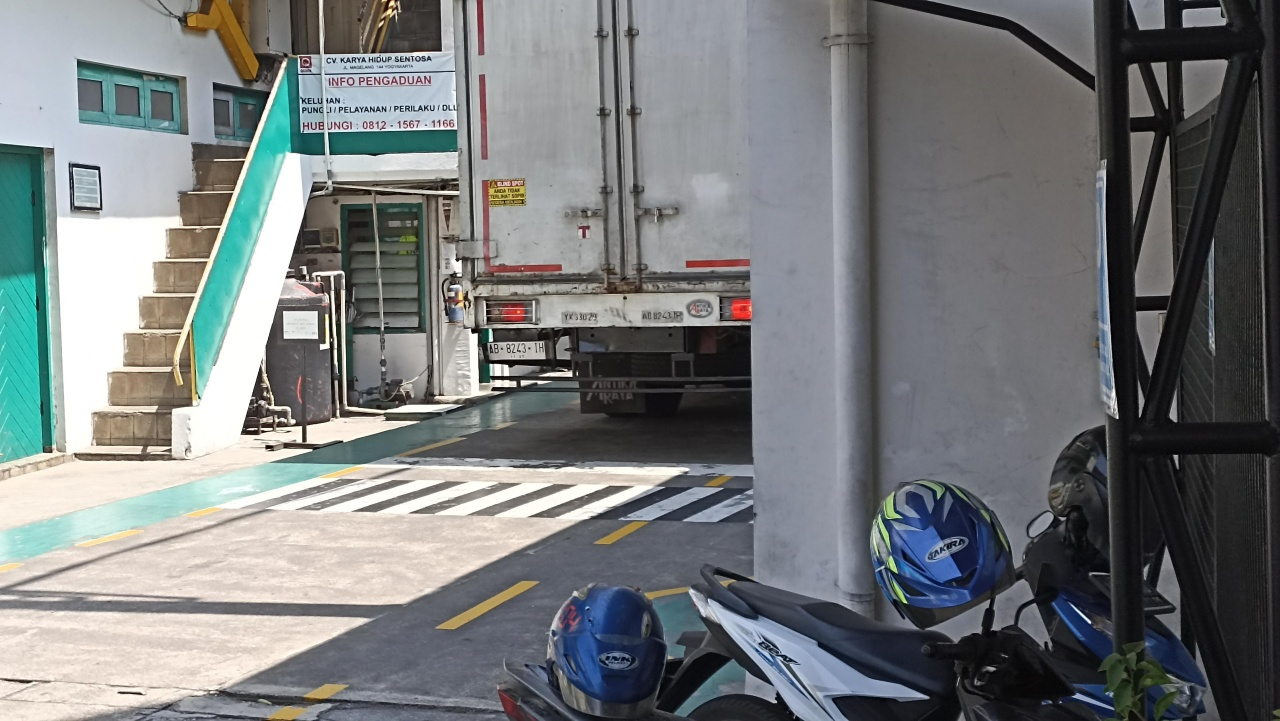plate: (488, 341, 547, 361)
